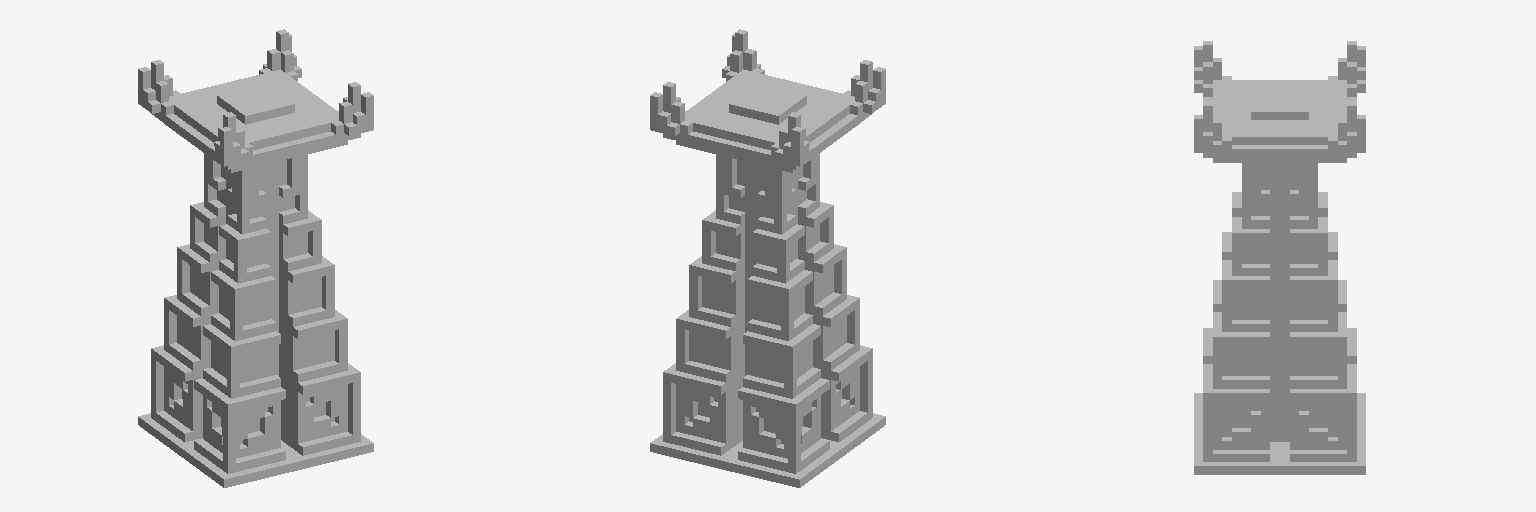
File: SL_TransportPole.obj
The picture shows the model from 3 angles: view 1: azimuth 30°, elevation 25°; view 2: azimuth 150°, elevation 25°; view 3: azimuth 270°, elevation 25°; orthographic projection.
Visible parts, largest first — view 1: SL_TransportPole; view 2: SL_TransportPole; view 3: SL_TransportPole.
Boxes of the visible parts, x1,y1,x2,y2 form: SL_TransportPole: [138, 29, 373, 487]; SL_TransportPole: [650, 29, 885, 487]; SL_TransportPole: [1194, 41, 1365, 474].
Bounding box in the file's own units: 18 × 42 × 18.